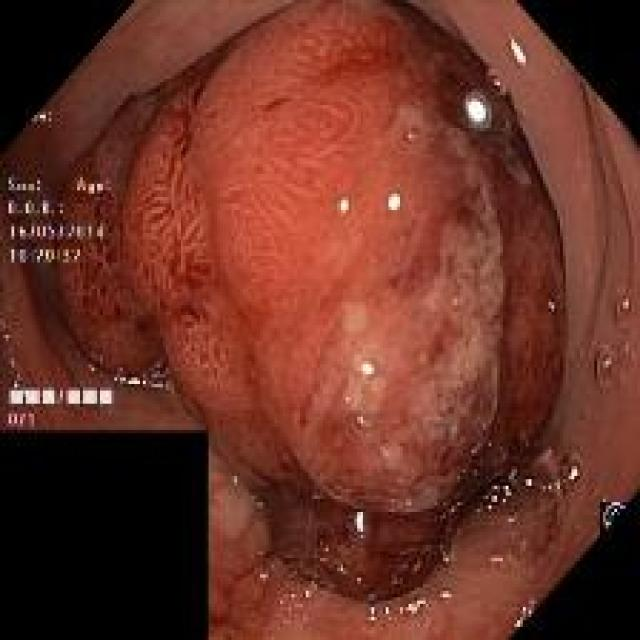Polyps: (58, 4, 564, 600)
